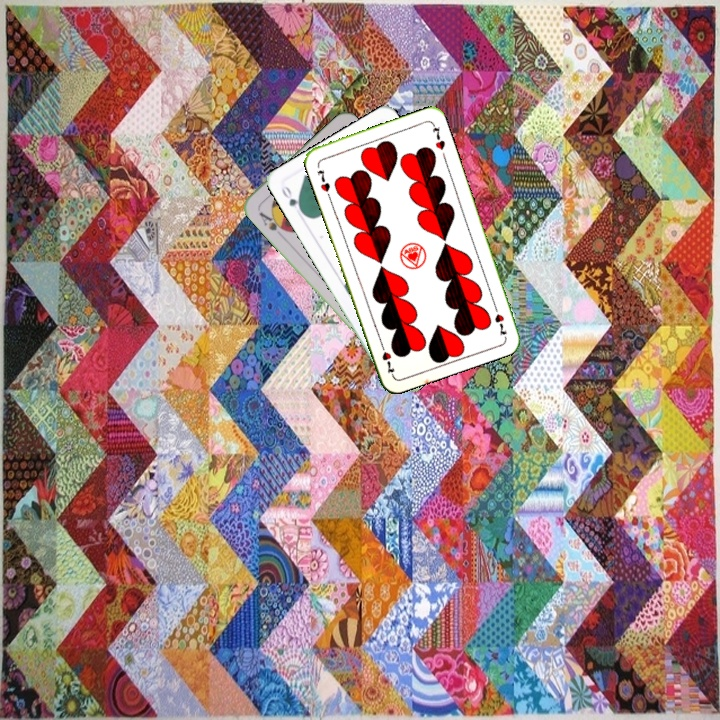GO: (277, 182, 306, 217)
H7: (489, 299, 509, 338), (313, 166, 333, 194)
SA: (255, 208, 289, 238)
